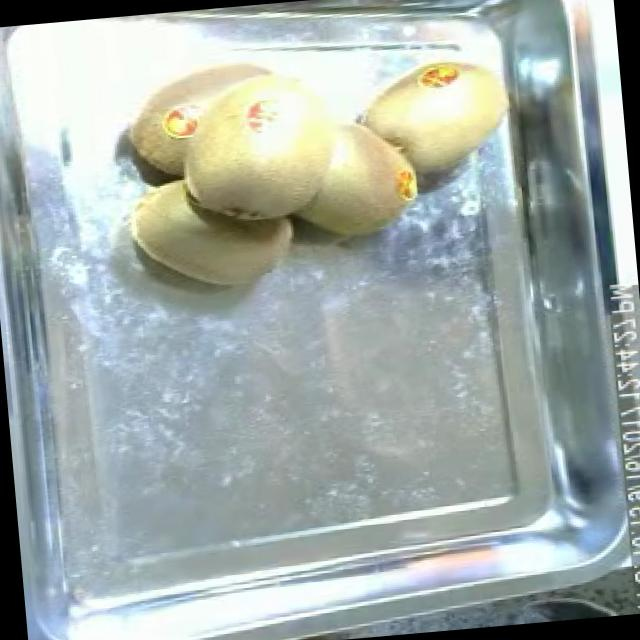Fruit: (109, 23, 401, 246), (116, 157, 310, 307)
